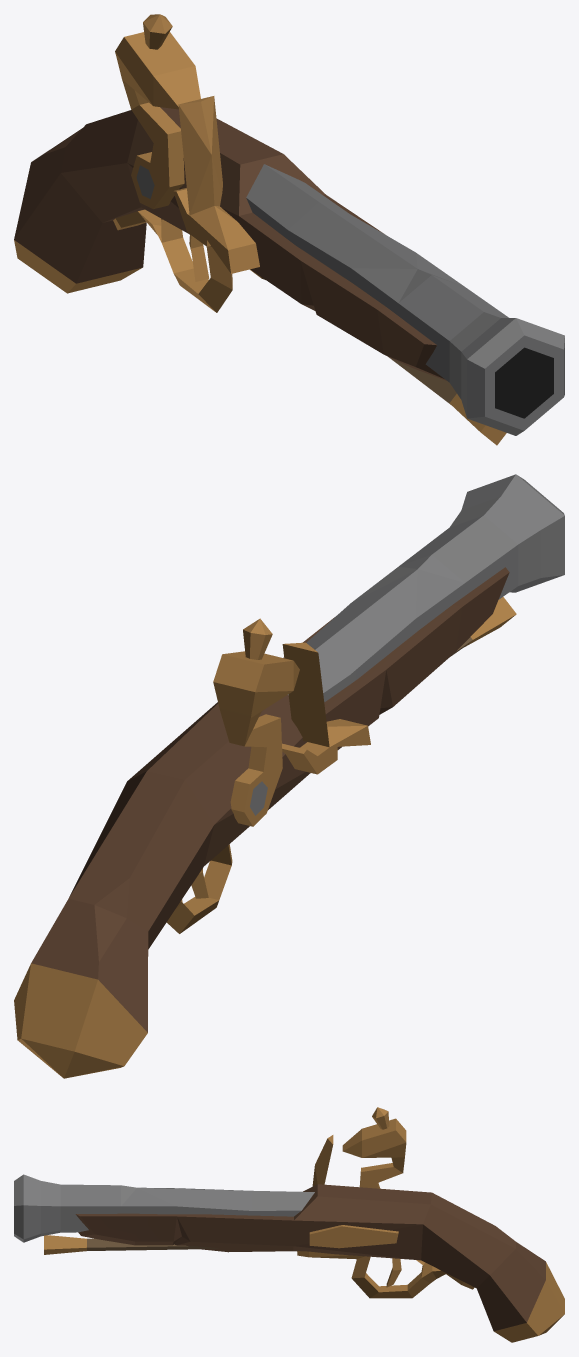
The model's file is SM_Wep_MusketPistol_03.glb.
The picture shows the model from 3 angles, top to bottom: view 1: azimuth 30°, elevation 25°; view 2: azimuth 150°, elevation 25°; view 3: azimuth 270°, elevation 25°; orthographic projection. The views are drawn at different scales.
Visible parts, largest first — view 1: SM_Wep_MusketPistol_079; view 2: SM_Wep_MusketPistol_079; view 3: SM_Wep_MusketPistol_079.
Part boxes in pixels (x1,y1,x2,y2): SM_Wep_MusketPistol_079: (14, 14, 564, 445); SM_Wep_MusketPistol_079: (14, 474, 564, 1078); SM_Wep_MusketPistol_079: (14, 1107, 564, 1342).
Size of the model in its own units: 0.000955 by 0.00246 by 0.00574.
